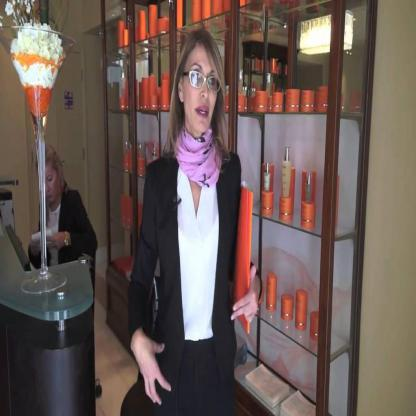face: (184, 44, 219, 133), (40, 164, 58, 203)
